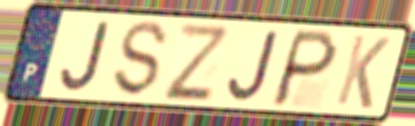J: (226, 28, 282, 104), (58, 19, 113, 94)
K: (333, 32, 394, 112)
P: (267, 27, 342, 110)
S: (111, 19, 170, 100)
Z: (161, 21, 230, 102)
